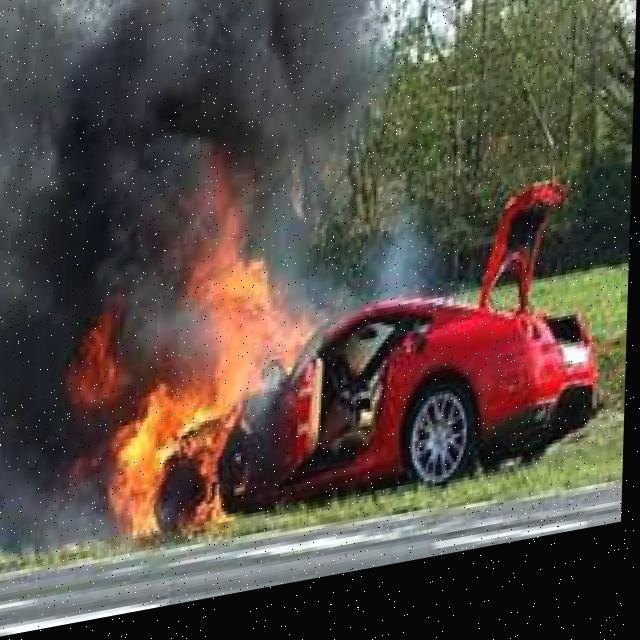Fire: (60, 145, 368, 591)
